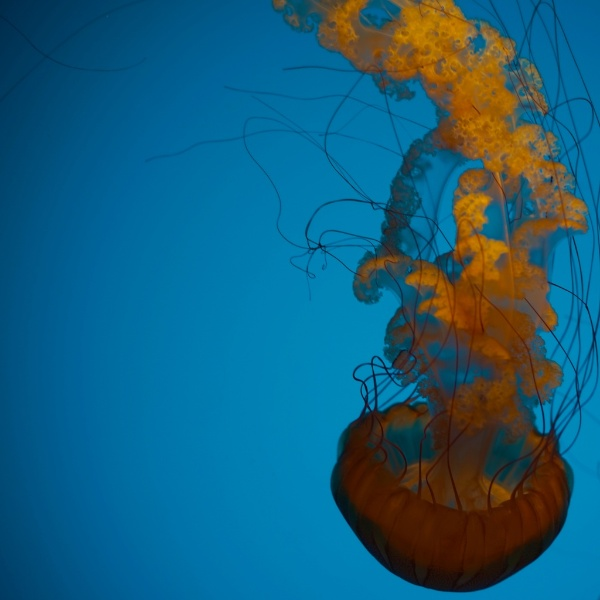Jellyfish: (145, 0, 599, 591)
